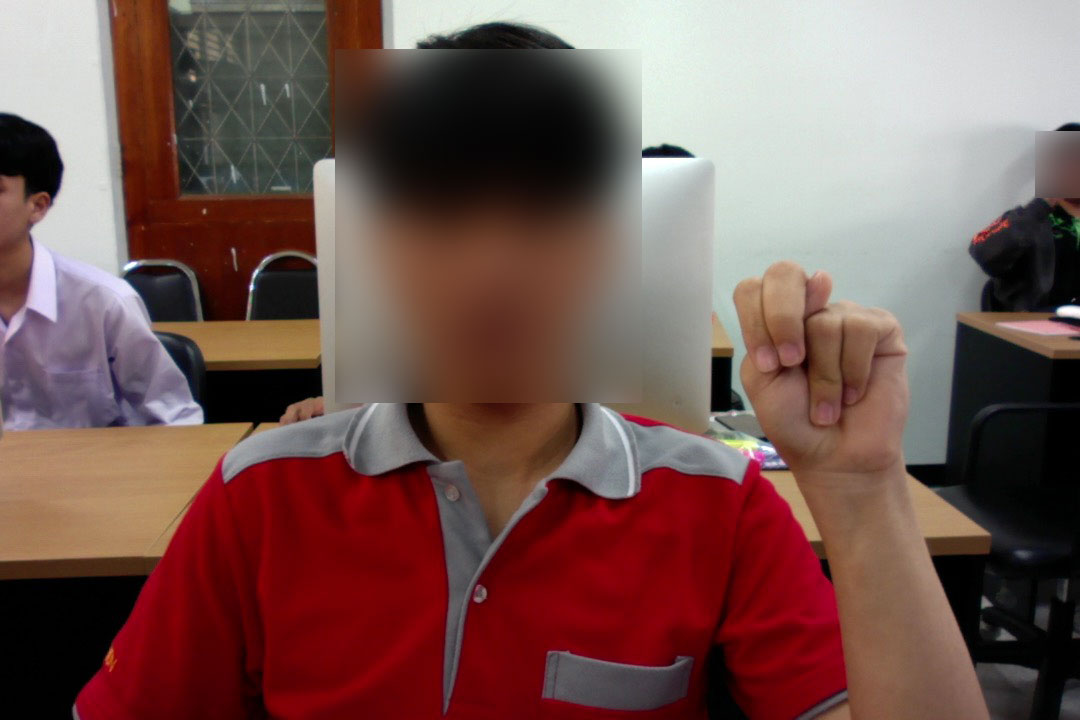nor: (725, 253, 917, 500)
